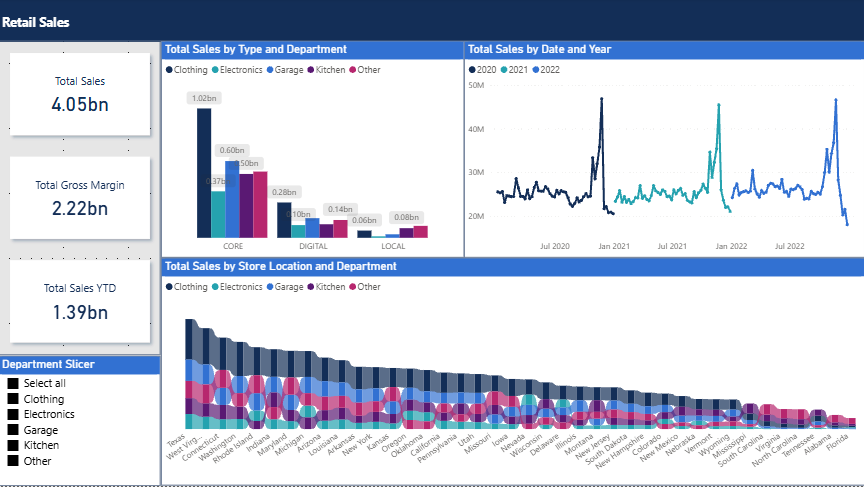

Layout of this report page (visuals, bound fields, positions):
{"tool":"powerbi","page":{"name":"Sales","canvas":[1280,720],"ordinal":0},"visuals":[{"type":"group","id":"g1","title":"Group 1","box":[0,0,1280,64],"z":0},{"type":"clusteredColumnChart","fields":{"Category":["Store Details.Type"],"Series":["Categories.Department"],"Y":["Retail Sales.Total Sales"]},"box":[240,64,448,320],"z":1000},{"type":"lineChart","fields":{"Category":["Date.Date"],"Series":["Date.Year"],"Y":["Retail Sales.Total Sales"]},"box":[688,64,592,320],"z":2000},{"type":"ribbonChart","fields":{"Category":["Store Details.Store Location"],"Series":["Categories.Department"],"Y":["Retail Sales.Total Sales"]},"box":[240,384,1040,336],"z":3000},{"type":"cardVisual","fields":{"Data":["Retail Sales.Total Sales","Retail Sales.Total Gross Margin","Retail Sales.Total Sales YTD"]},"box":[0,64,240,464],"z":4000},{"type":"slicer","title":"Department Slicer","fields":{"Values":["Categories.Department"]},"box":[0,528,240,192],"z":5000},{"type":"shape","box":[0,0,1280,64],"z":14000,"group":"g1"},{"type":"textbox","box":[0,0,1280,64],"z":15000,"group":"g1"}]}

Visuals, with their boxes in screenshot pixels (x1, y1, x2, y2), scaled from the page's 1280x720 canvas onto the 864x487 screenshot:
"Group 1" group: 0, 0, 863, 43
clusteredColumnChart - Store Details.Type x Categories.Department: 162, 43, 464, 260
lineChart - Date.Date x Date.Year: 464, 43, 863, 260
ribbonChart - Store Details.Store Location x Categories.Department: 162, 260, 863, 486
cardVisual - Retail Sales.Total Sales x Retail Sales.Total Gross Margin: 0, 43, 162, 357
"Department Slicer" slicer: 0, 357, 162, 486
shape: 0, 0, 863, 43
textbox: 0, 0, 863, 43
